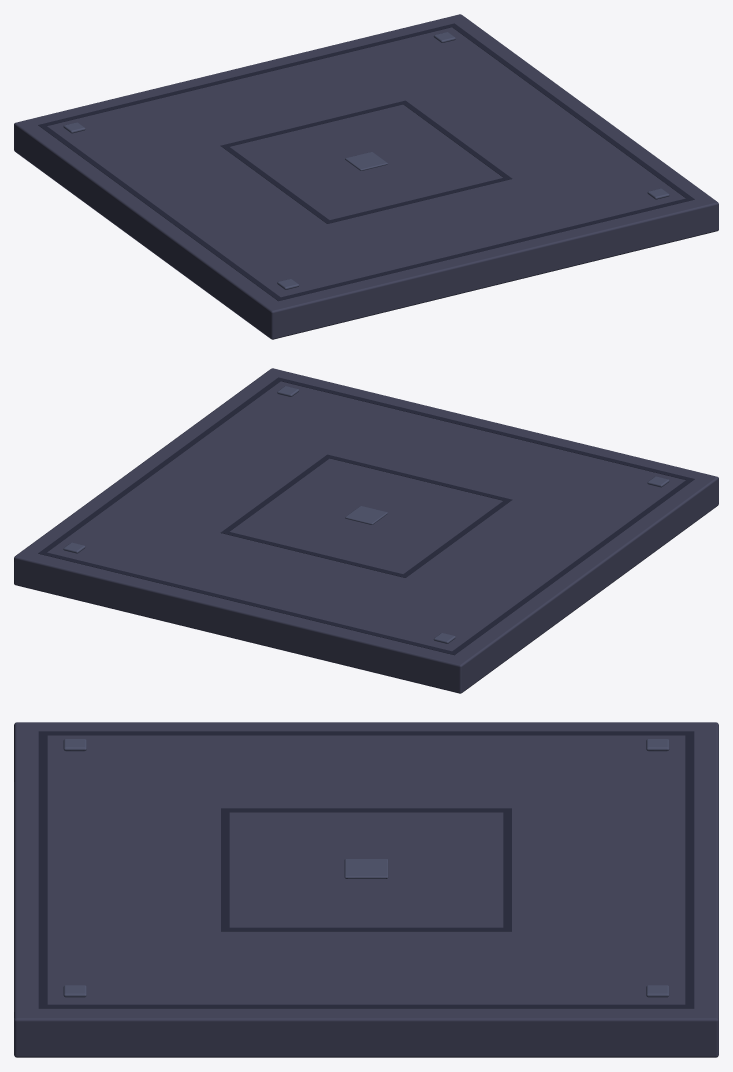
Rendered from floor.plate.WESN+sub.glb.
3 renders of one model, top to bottom at view 1: azimuth 30°, elevation 25°; view 2: azimuth 150°, elevation 25°; view 3: azimuth 270°, elevation 25°, orthographic. The views are drawn at different scales.
Parts seen in each view (by area): view 1: floor.plate.WESN+sub; view 2: floor.plate.WESN+sub; view 3: floor.plate.WESN+sub.
Boxes of the visible parts, x1,y1,x2,y2 form: floor.plate.WESN+sub: (14,14,718,339); floor.plate.WESN+sub: (14,368,718,693); floor.plate.WESN+sub: (14,722,718,1057).
Bounding box in the file's own units: 0.968 × 0.066 × 0.968.
